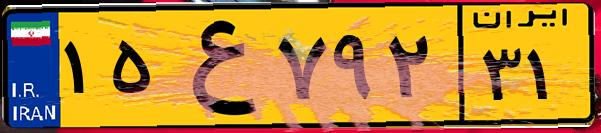1: (57, 26, 110, 100), (525, 38, 570, 115)
2: (385, 28, 445, 110)
3: (475, 38, 525, 113)
5: (110, 28, 158, 98)
7: (270, 28, 330, 110)
9: (330, 28, 385, 110)
ع: (158, 12, 270, 120)
